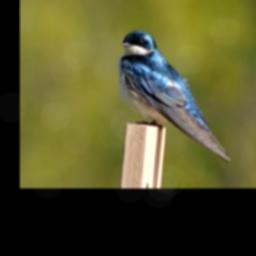Swallow: (116, 26, 233, 165)
